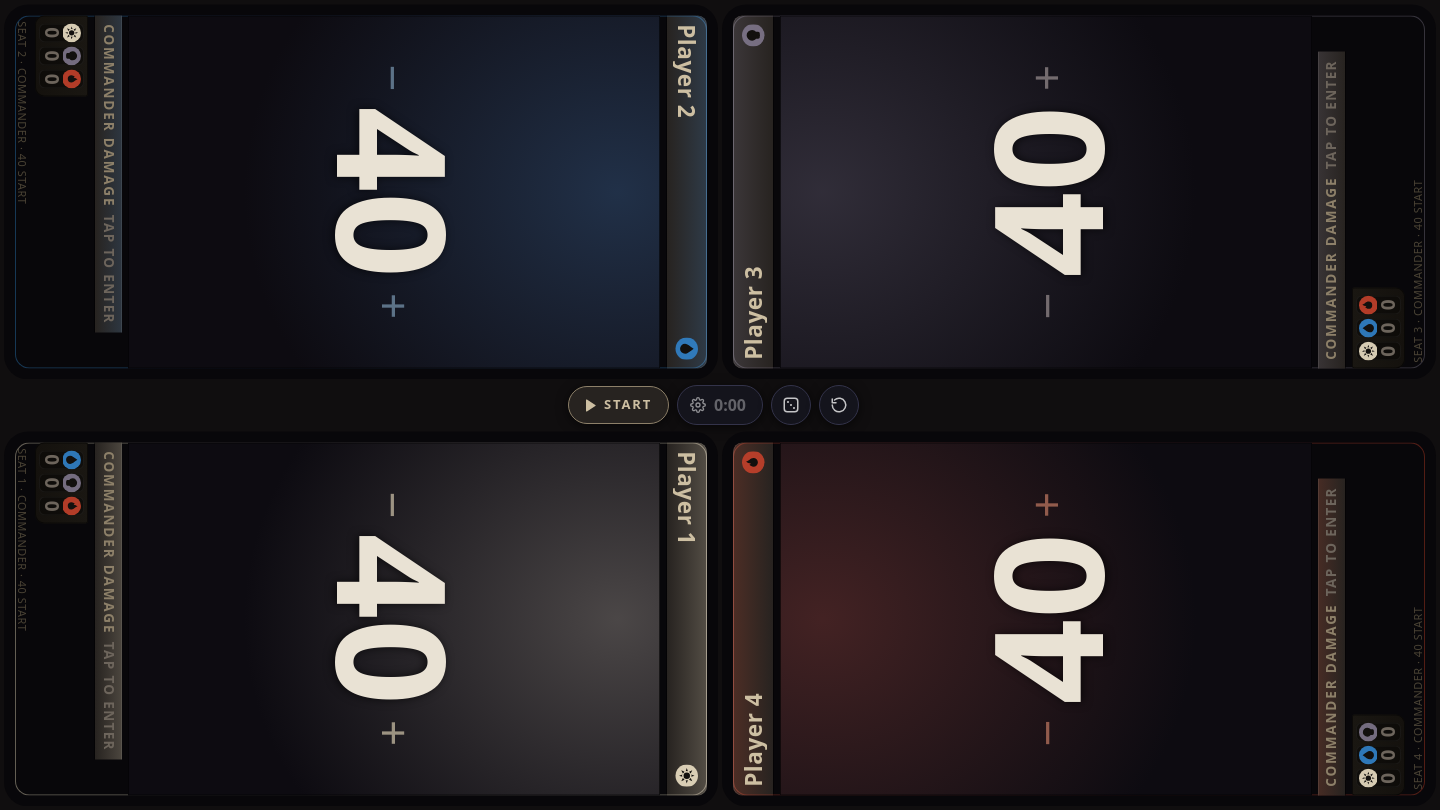
Test: opening the panel › shows a counter for every opponent and none for yourself
Click the button with aria-label "Player 1: commander damage": {"x": 78, "y": 618} [35,442,122,795]
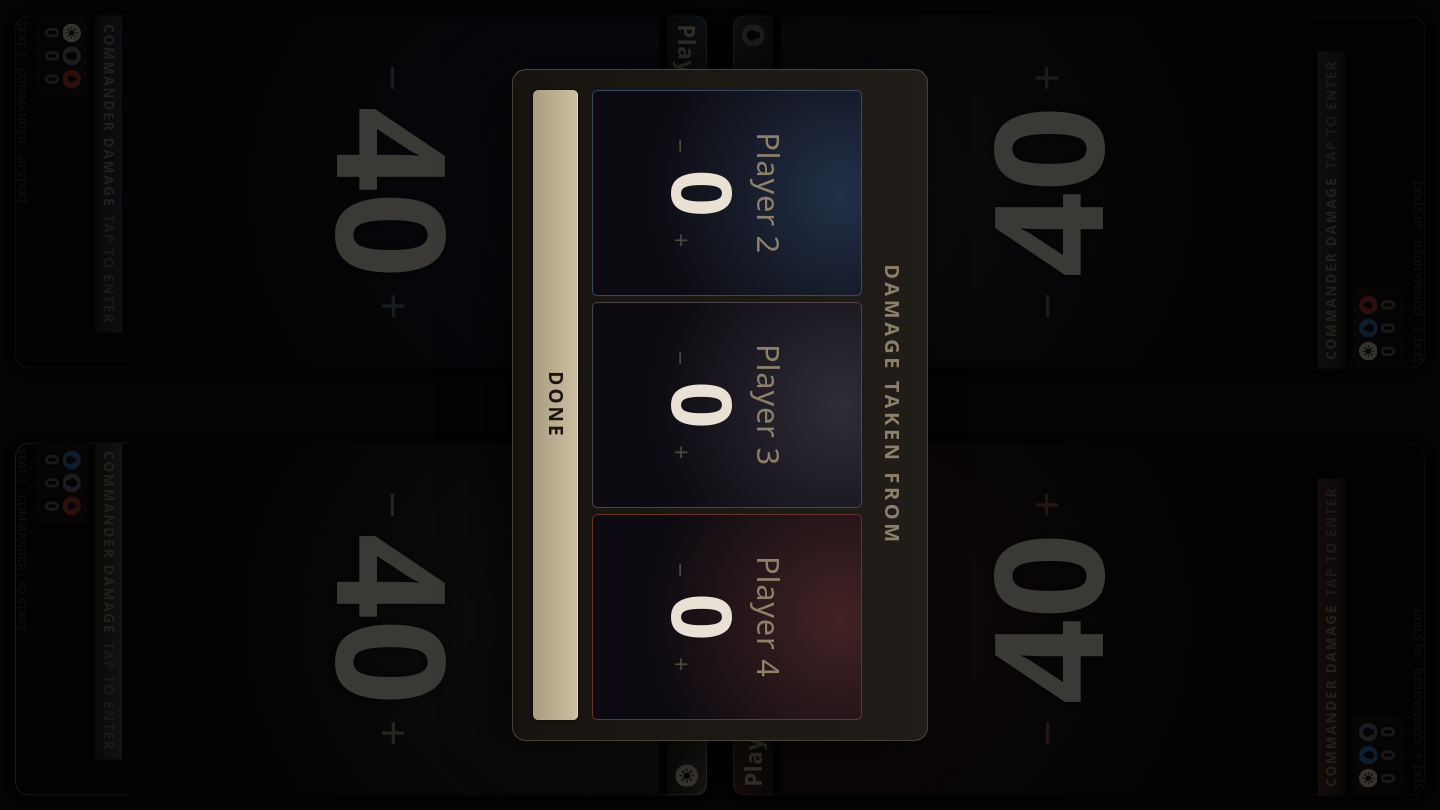
expect the button named "Add commander damage from Player 2" is shown: met, box [592,193,862,296]
expect the button named "Add commander damage from Player 3" is shown: met, box [592,405,862,508]
